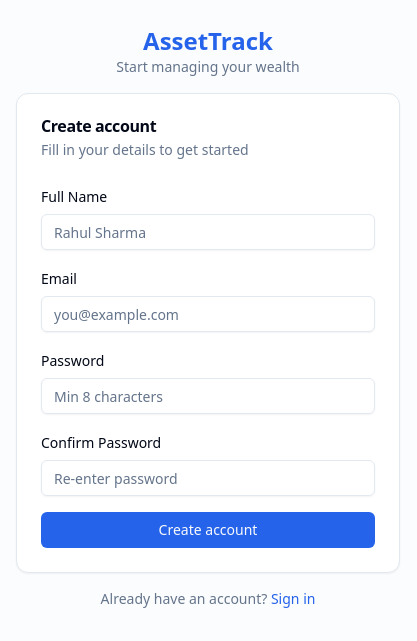
Test: Register page › duplicate email (409 response) shows "Email already registered" error
The width and height of the screenshot is (417, 641).
Type "Existing User" into the field labelled "Full Name" at (208, 232), box [41,214,375,250]
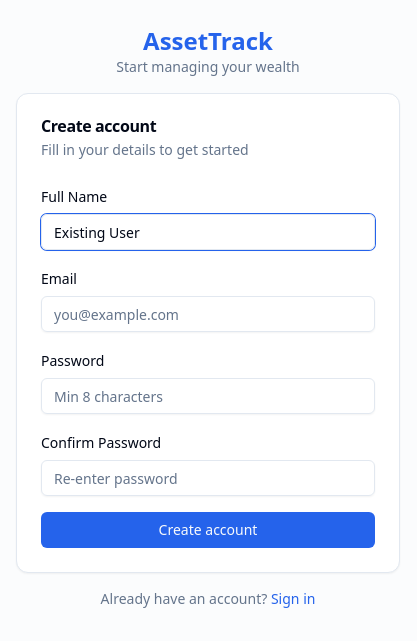
Type "existing@example.com" into the field labelled "Email" at (208, 314), box [41,296,375,332]
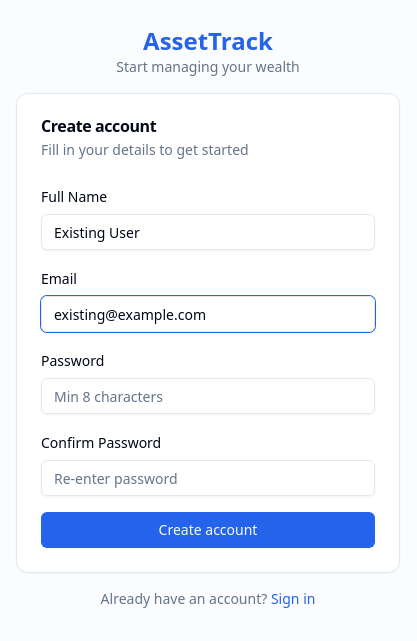
Type "SomePass123" into the password field with placeholder "Min 8 characters" at (208, 396), box [41,378,375,414]
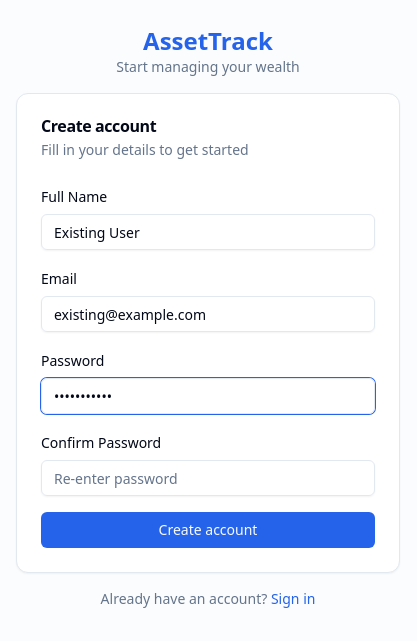
Type "SomePass123" into the password field with placeholder "Re-enter password" at (208, 478), box [41,460,375,496]
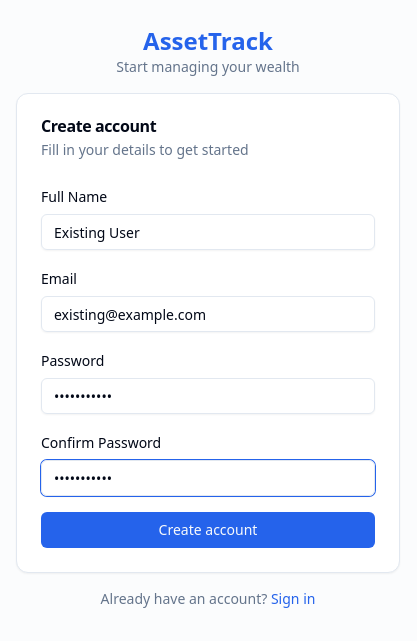
Click the button "Create account" at (208, 530), box [41,512,375,548]
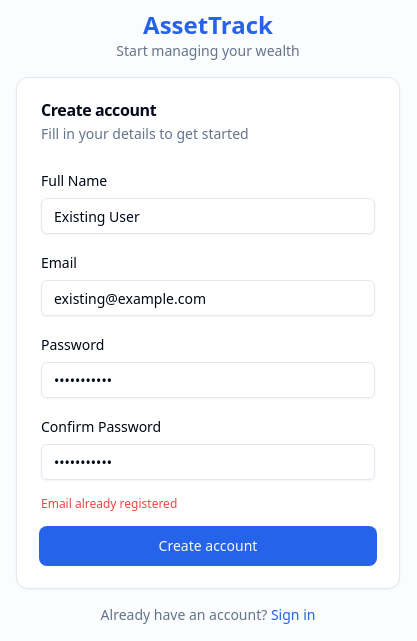
Expected: the text "Email already registered" is shown, [41,495,177,512]
